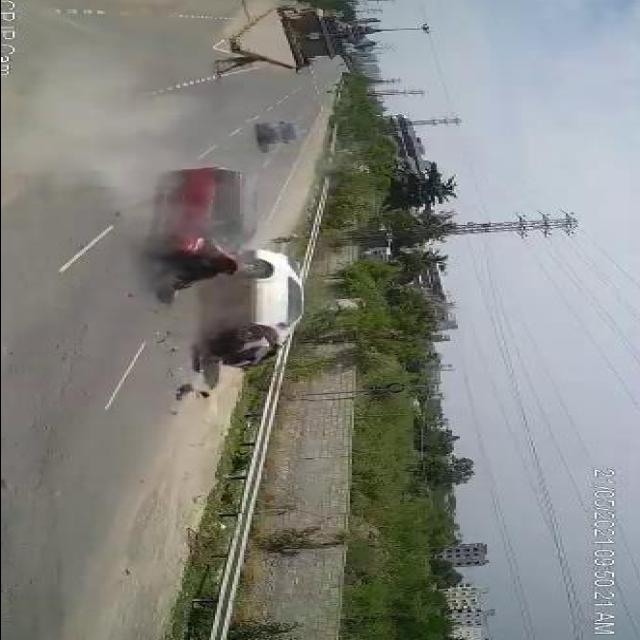accident: (129, 159, 331, 409)
